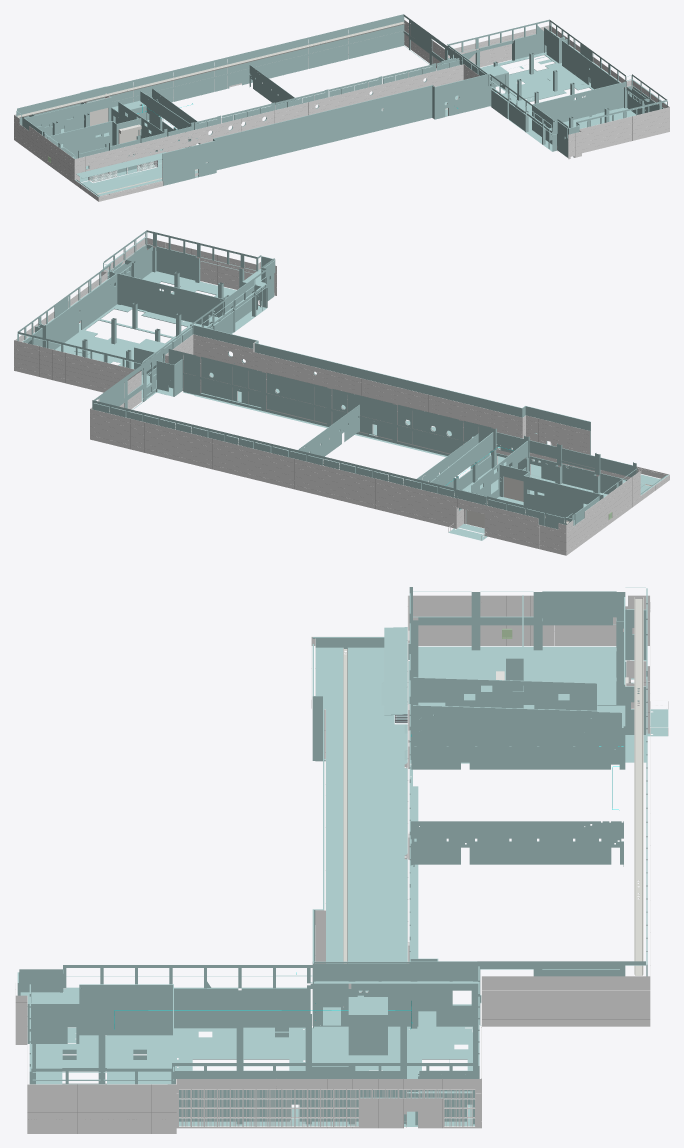
The model's file is storey-4-3f.glb.
3 views of the same model, one above another, from view 1: azimuth 30°, elevation 25°; view 2: azimuth 150°, elevation 25°; view 3: azimuth 270°, elevation 25° (orthographic). The views are drawn at different scales.
Bounding box in the file's own units: 134 × 8.54 × 75.72.
